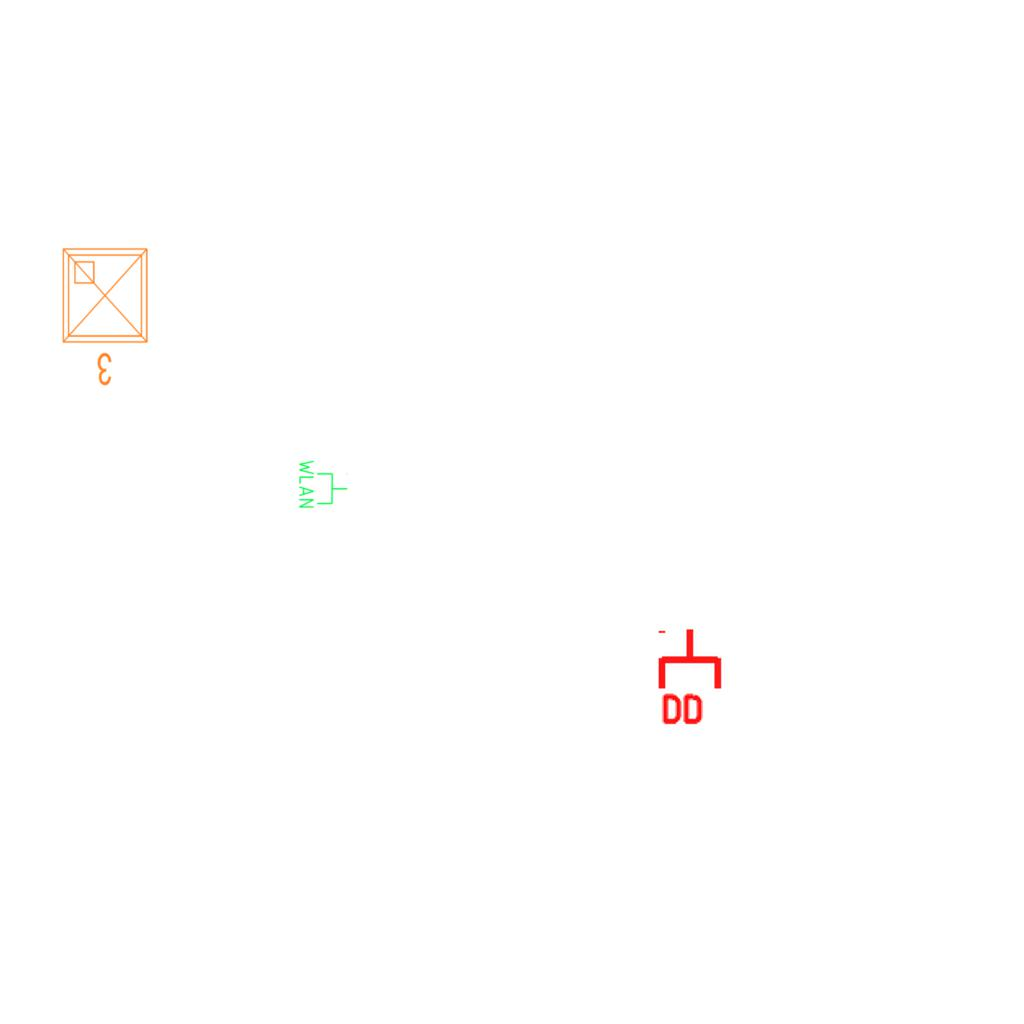Datenanschluss_zweifach: (657, 626, 726, 729)
Einbaudownlights_LED_Konferenzraeume: (55, 241, 159, 391)
WLAN: (297, 458, 349, 510)
